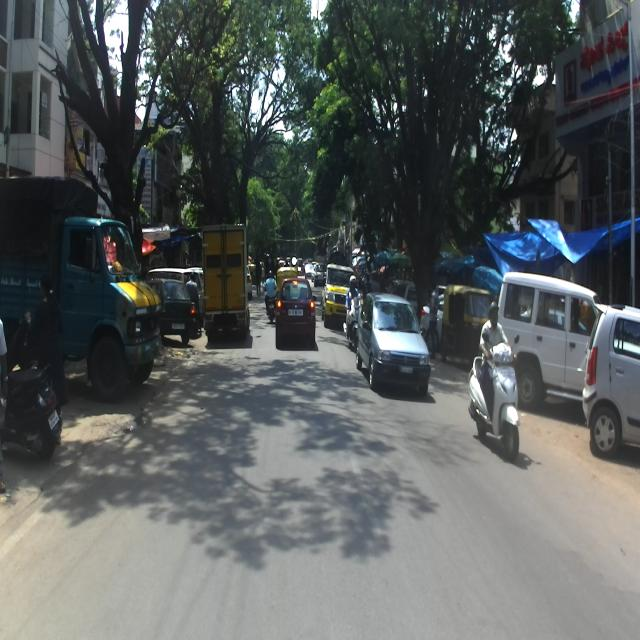car ahead at: (587, 299, 640, 455), (357, 291, 431, 393), (277, 271, 318, 347)
motorcycle ahead at: (467, 328, 527, 454)
truck ahead at: (0, 178, 160, 396), (206, 222, 252, 341)
